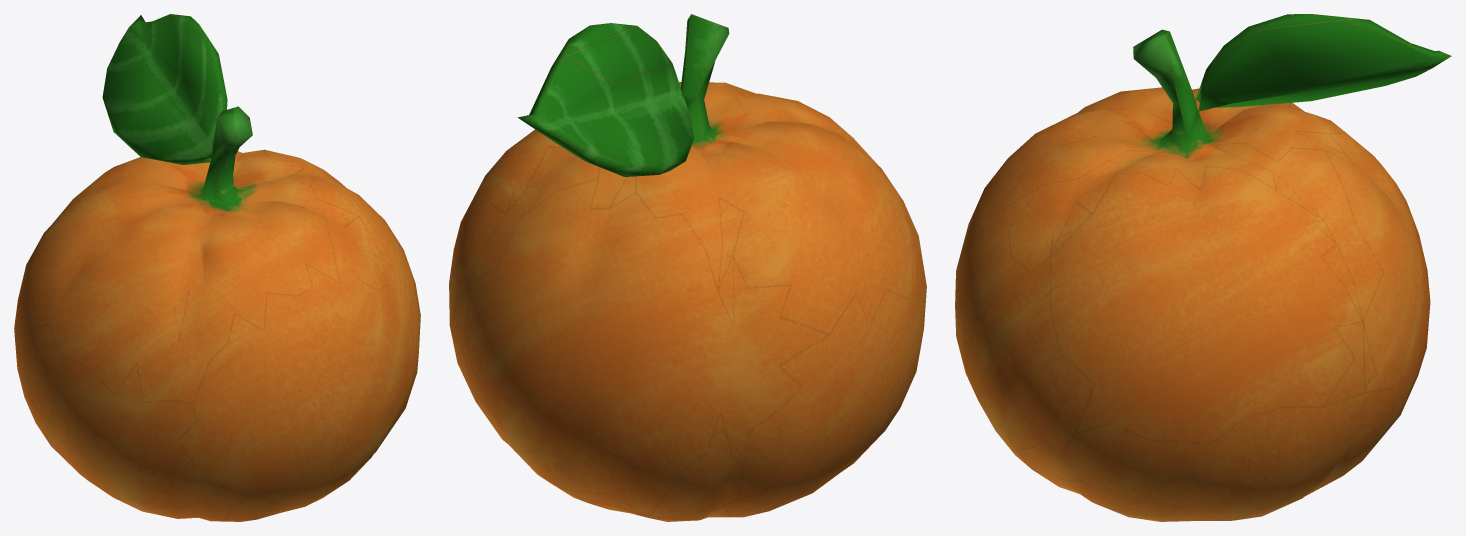
Rendered from orange.fbx.
3 renders of one model, left to right at view 1: azimuth 30°, elevation 25°; view 2: azimuth 150°, elevation 25°; view 3: azimuth 270°, elevation 25°, orthographic. The views are drawn at different scales.
Parts seen in each view (by area): view 1: orange; view 2: orange; view 3: orange.
Part boxes in pixels (<box>): orange: <box>14,14,420,521</box>; orange: <box>449,14,926,521</box>; orange: <box>955,14,1451,521</box>.
Bounding box in the file's own units: 5.21 × 6 × 5.45.
